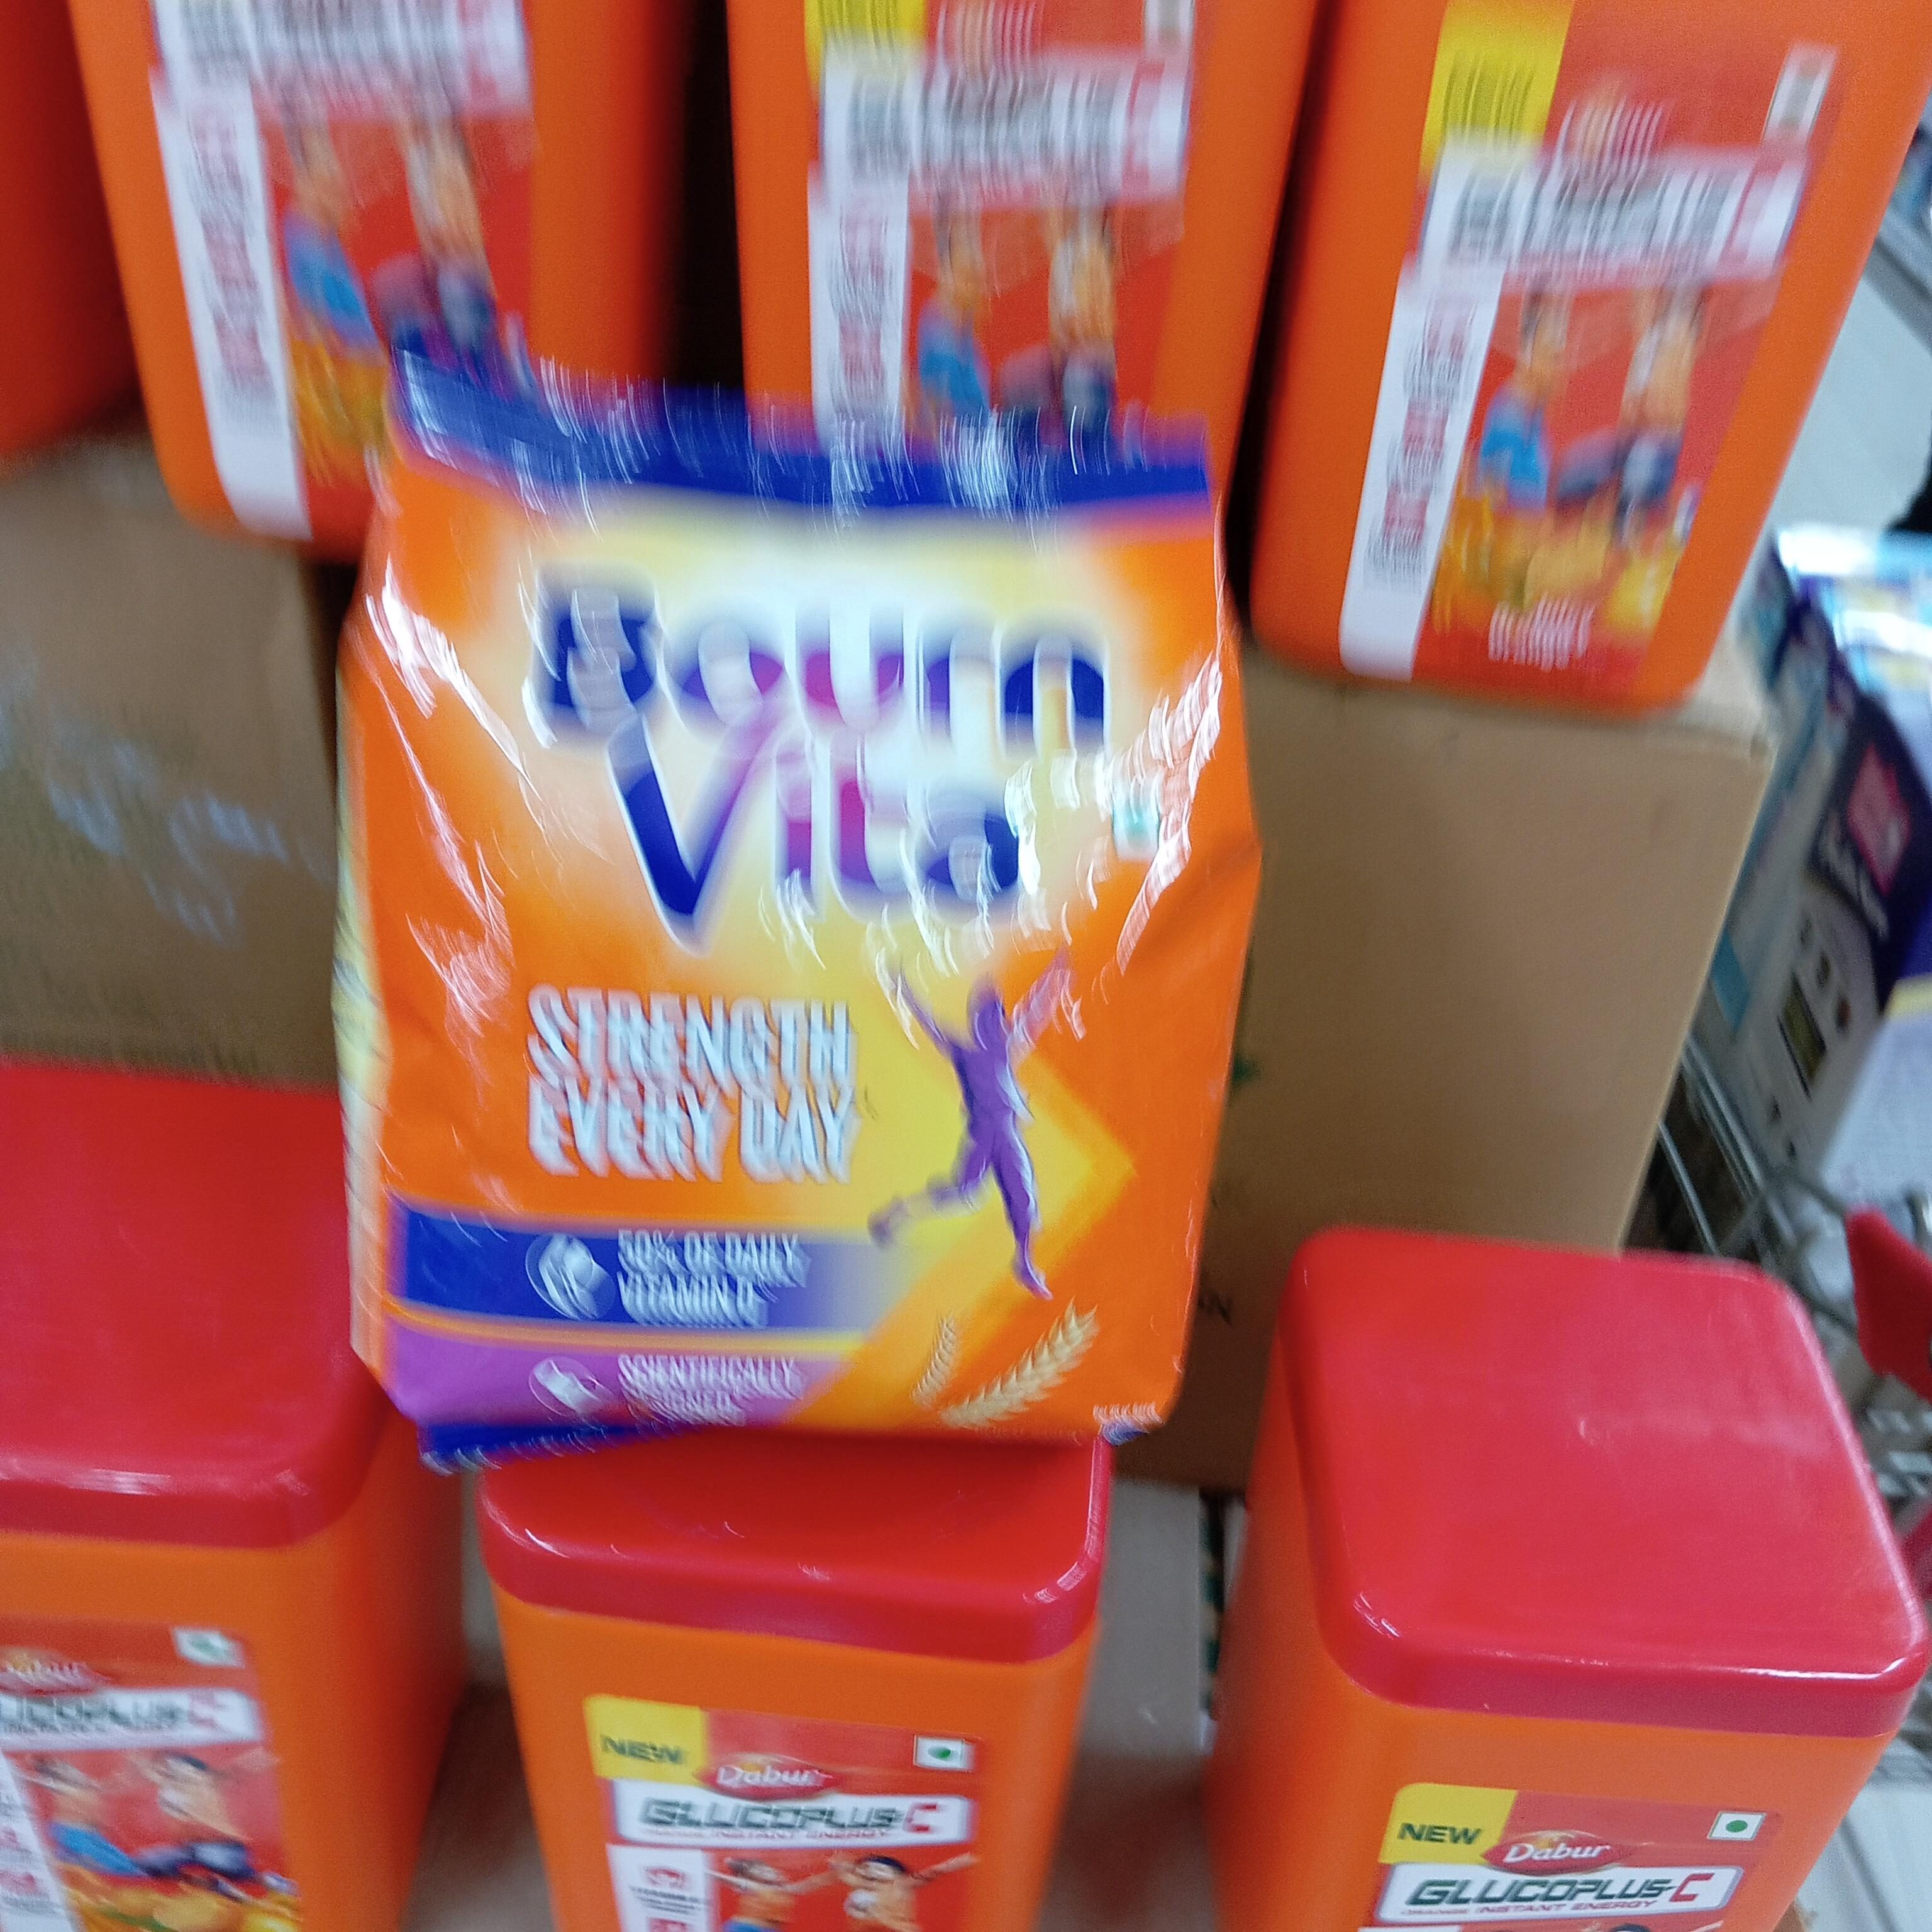BOURN_VITA_500_G_POUCH: (377, 340, 1189, 1444)
